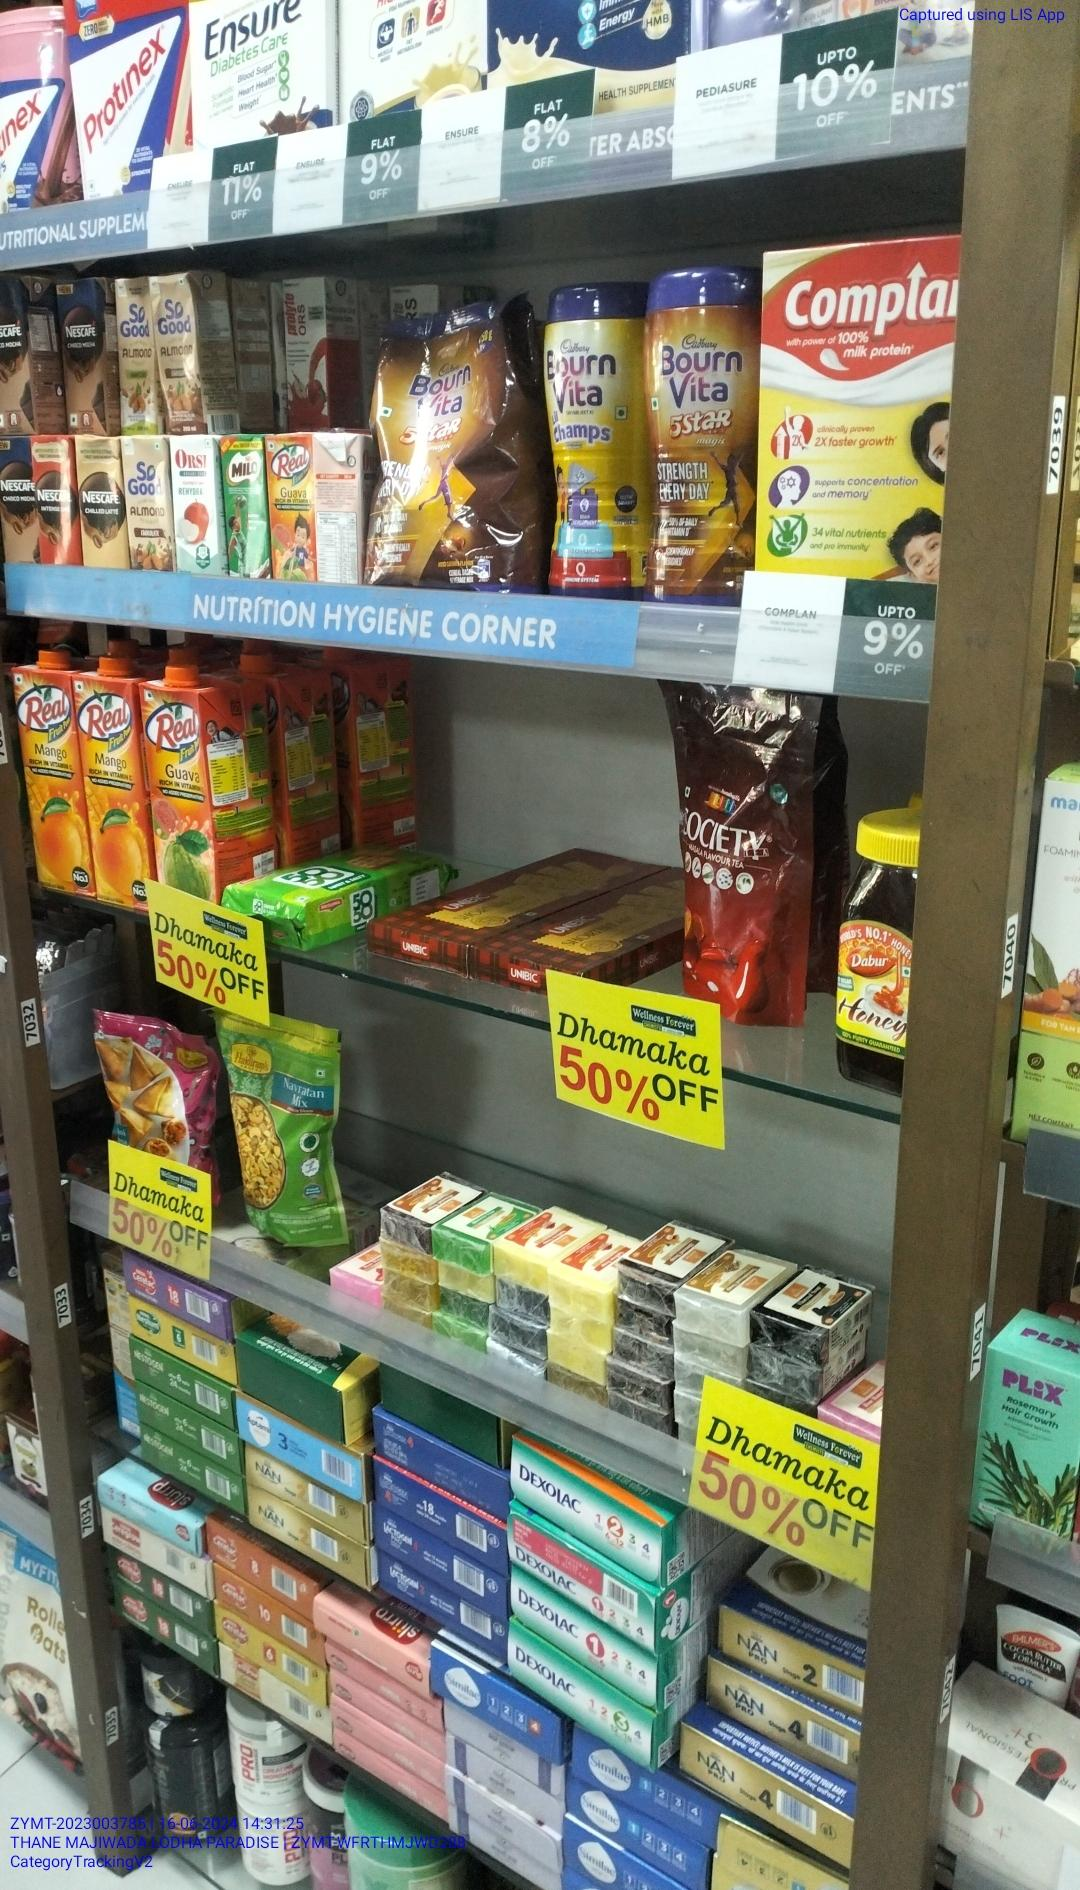BOURN_VITA_CHAMPS_500_G_JAR: (541, 282, 643, 600)
BOURN_VITA_FIVE_STAR_MAGIC_500_G_JAR: (649, 271, 742, 610)
BOURN_VITA_FIVE_STAR_MAGIC_750_G_POUCH: (369, 304, 535, 583)
